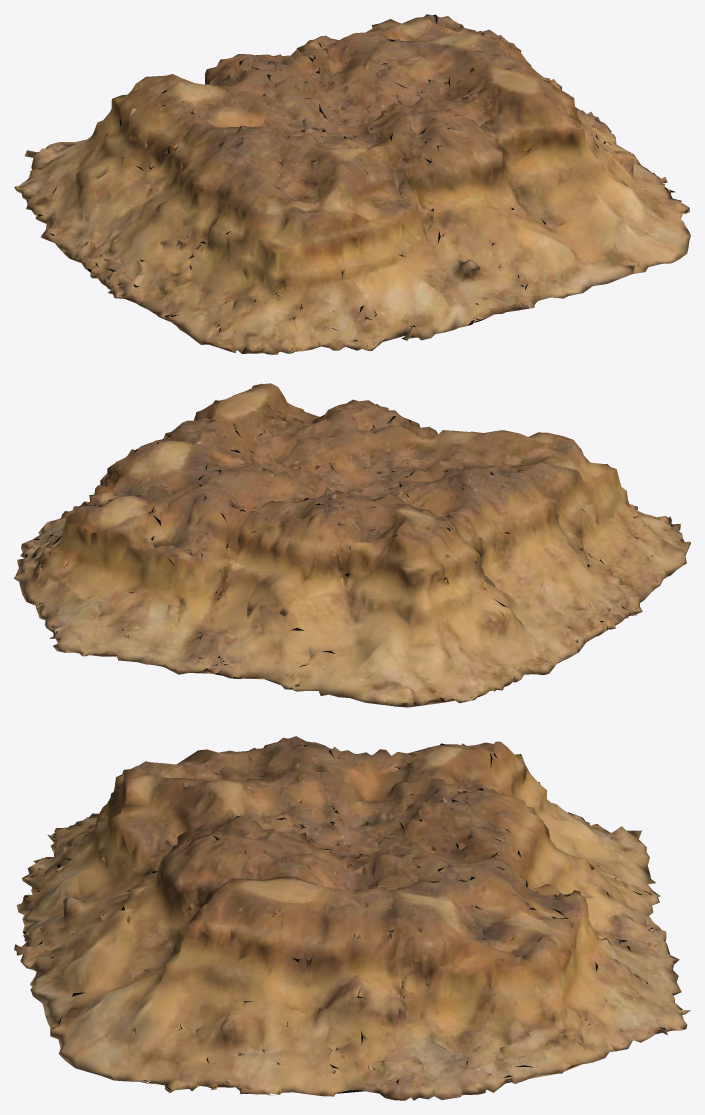
File: mesa_butte.glb
3 views of the same model, one above another, from view 1: azimuth 30°, elevation 25°; view 2: azimuth 150°, elevation 25°; view 3: azimuth 270°, elevation 25° (orthographic). The views are drawn at different scales.
Parts seen in each view (by area): view 1: mesa_butte_00; view 2: mesa_butte_00; view 3: mesa_butte_00.
Part boxes in pixels (x1,y1,x2,y2): mesa_butte_00: (14, 14, 690, 354); mesa_butte_00: (14, 383, 690, 707); mesa_butte_00: (14, 736, 690, 1100).
Size of the model in its own units: 1.9 by 0.4234 by 1.82.
1 material, 1 textured.
